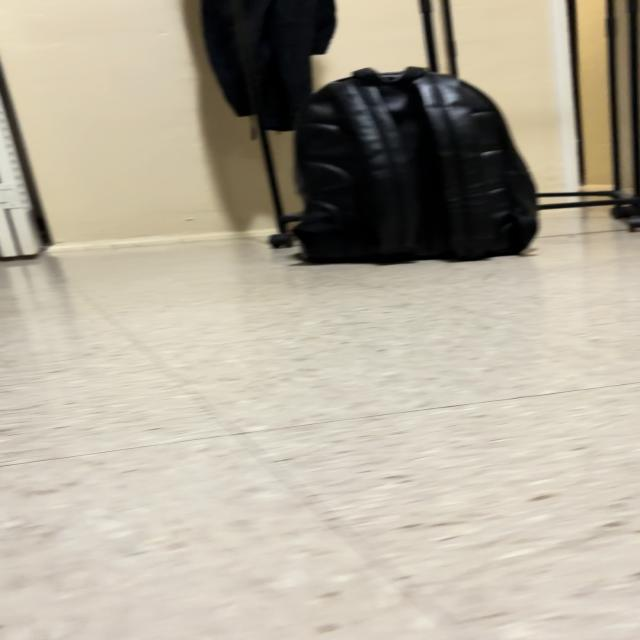backpack: (295, 68, 536, 262)
